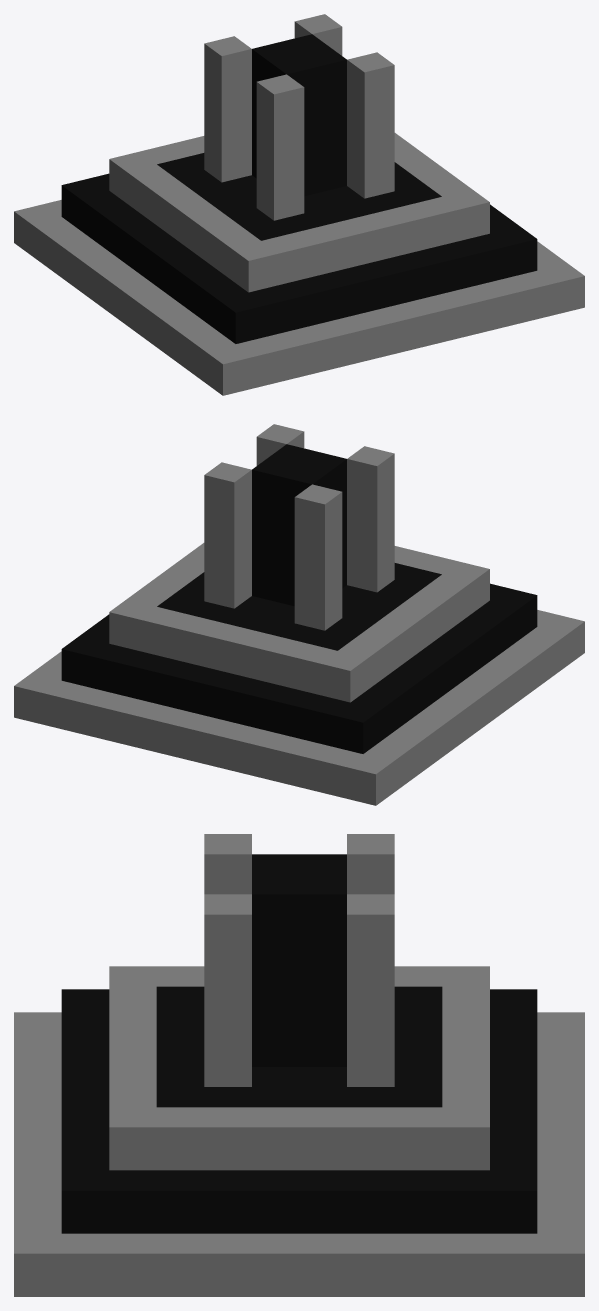
Rendered from base torreta.obj.
3 renders of one model, top to bottom at view 1: azimuth 30°, elevation 25°; view 2: azimuth 150°, elevation 25°; view 3: azimuth 270°, elevation 25°, orthographic. The views are drawn at different scales.
Bounding box in the file's own units: 1.2 × 0.7 × 1.2.
1 material, 1 textured.
